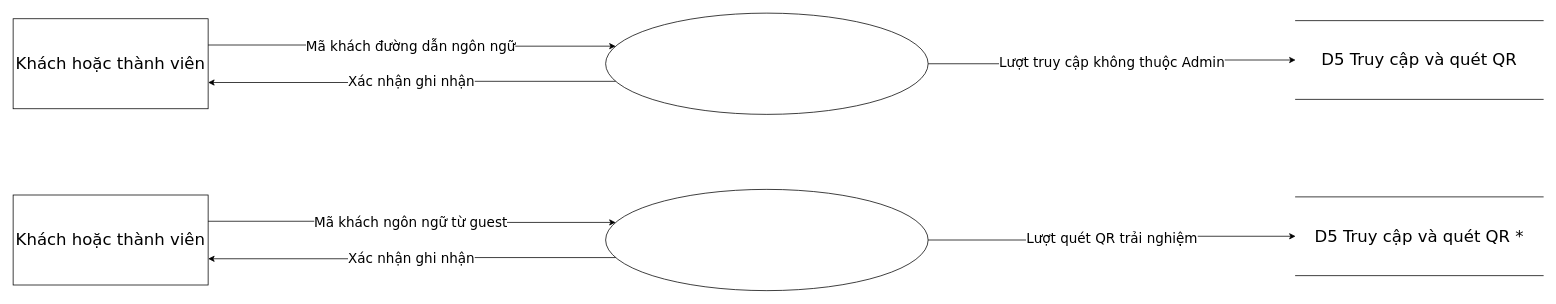
This 1556x304 diagram has some shape labels left out. The centre of each missing label's shape, as x and y in pixels:
"6.1 Ghi nhận truy cập" goes at (x=766, y=63).
"6.2 Ghi nhận QR trải nghiệm" goes at (x=766, y=240).
